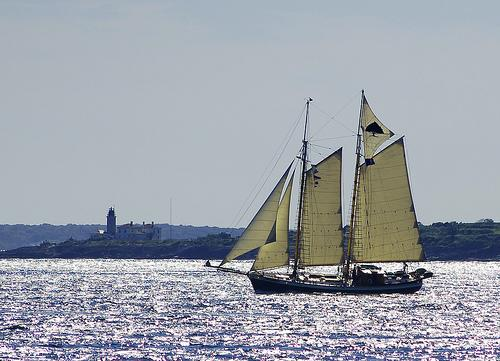Ship: (218, 87, 434, 293)
